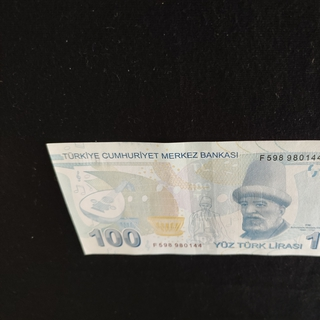100TLBack: (45, 138, 320, 257)
